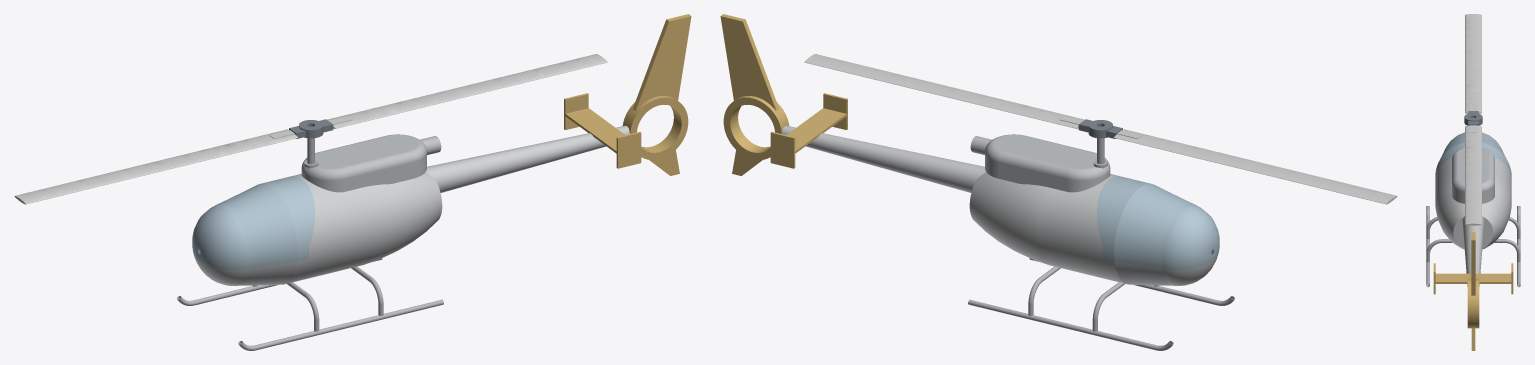
File: step_53.glb
The picture shows the model from 3 angles, left to right: view 1: azimuth 30°, elevation 25°; view 2: azimuth 150°, elevation 25°; view 3: azimuth 270°, elevation 25°; orthographic projection. The views are drawn at different scales.
Parts seen in each view (by area): view 1: part__fuselage, part__canopy glazing, part__engine cowling, part__fin and fan duct, part__tail boom, part__main rotor blade 2, part__main rotor blade 1, part__horizontal stabiliser, part__skid left, part__main rotor hub, part__skid right; view 2: part__fuselage, part__canopy glazing, part__engine cowling, part__fin and fan duct, part__tail boom, part__main rotor blade 2, part__main rotor blade 1, part__horizontal stabiliser, part__skid right, part__main rotor hub, part__skid left; view 3: part__fuselage, part__main rotor blade 1, part__main rotor blade 2, part__engine cowling, part__fin and fan duct, part__horizontal stabiliser, part__tail boom, part__canopy glazing, part__cross tube rear, part__main rotor hub, part__cross tube front, part__skid right (+1 smaller).
Part boxes in pixels (x1,y1,x2,y2): part__fuselage: (194, 172, 442, 285); part__canopy glazing: (192, 176, 314, 269); part__engine cowling: (301, 134, 441, 192); part__fin and fan duct: (622, 14, 691, 175); part__tail boom: (426, 125, 629, 192); part__main rotor blade 2: (14, 129, 298, 204); part__main rotor blade 1: (327, 54, 607, 128); part__horizontal stabiliser: (564, 93, 641, 168); part__skid left: (238, 299, 443, 350); part__main rotor hub: (289, 119, 333, 138); part__skid right: (177, 258, 382, 305); part__fuselage: (969, 172, 1217, 285); part__canopy glazing: (1097, 176, 1219, 269); part__engine cowling: (970, 134, 1110, 192); part__fin and fan duct: (720, 14, 789, 175); part__tail boom: (782, 125, 985, 192); part__main rotor blade 2: (1113, 129, 1397, 204); part__main rotor blade 1: (804, 54, 1084, 128); part__horizontal stabiliser: (770, 93, 847, 168); part__skid right: (968, 299, 1173, 350); part__main rotor hub: (1078, 119, 1122, 138); part__skid left: (1029, 258, 1234, 305); part__fuselage: (1435, 157, 1511, 249); part__main rotor blade 1: (1465, 125, 1481, 225); part__main rotor blade 2: (1465, 14, 1481, 113); part__engine cowling: (1452, 147, 1494, 203); part__fin and fan duct: (1467, 232, 1479, 350); part__horizontal stabiliser: (1433, 263, 1513, 294); part__tail boom: (1462, 216, 1484, 286); part__canopy glazing: (1435, 132, 1511, 176); part__cross tube rear: (1426, 239, 1520, 262); part__main rotor hub: (1464, 111, 1482, 125); part__cross tube front: (1426, 217, 1520, 239); part__skid right: (1517, 206, 1520, 287).
Bounding box in the file's own units: 11970 × 3400 × 1980.
